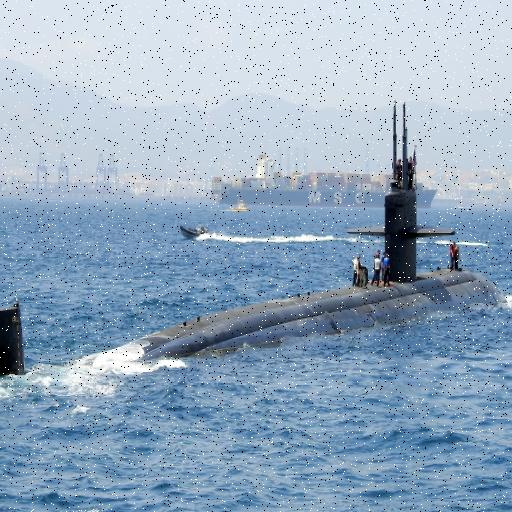submarine: (1, 104, 507, 376)
